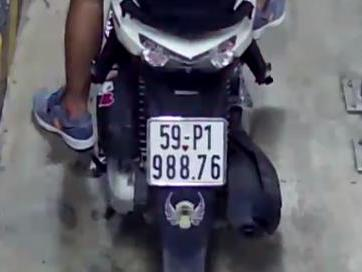num_plate: (144, 114, 228, 188)
